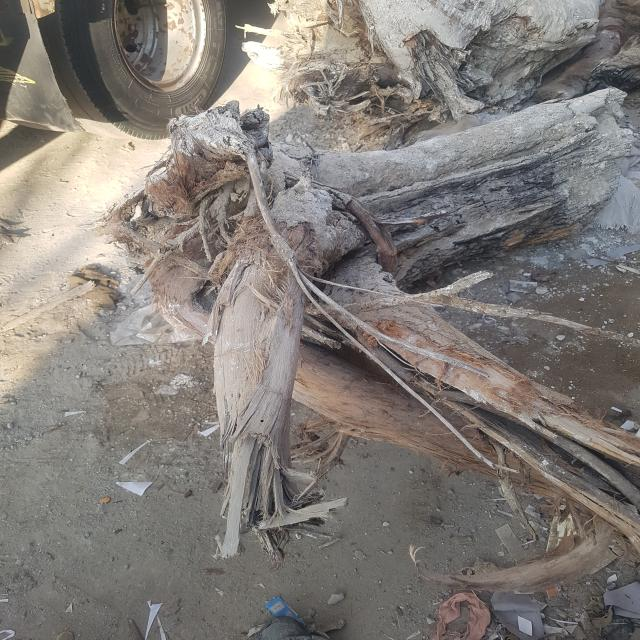paper: (131, 111, 640, 602)
